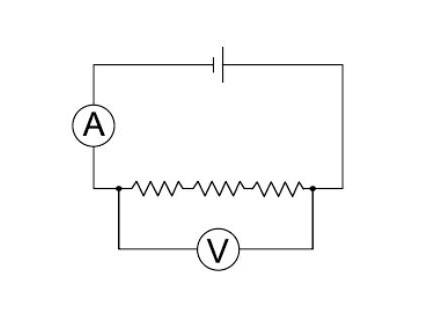resistor: (250, 170, 310, 206), (119, 169, 186, 197)
